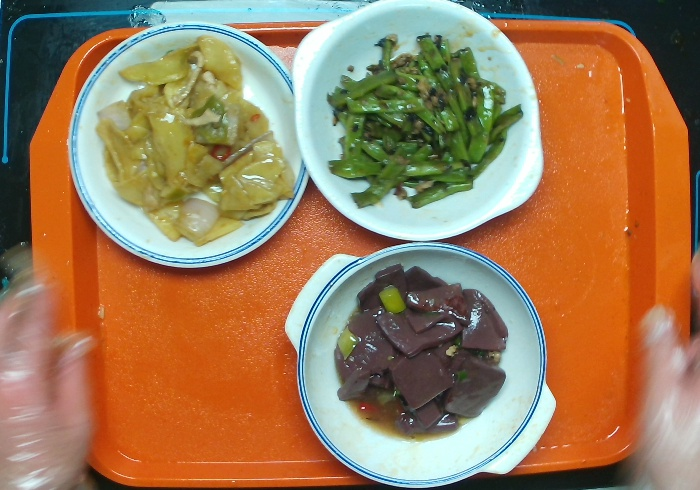HZYJPL-Dai_Er_Bai_Yuan_Wan: (289, 1, 547, 245)
HZYJPL-Lan_Bian_Dai_Er_Wan: (280, 239, 562, 490)
HZYJPL-Lan_Bian_Yuan_Die: (65, 17, 313, 272)
